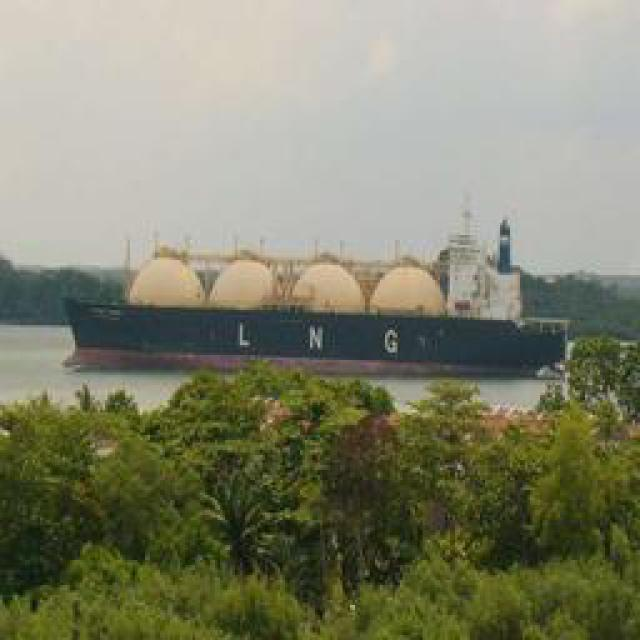Ship: (59, 308, 572, 373)
